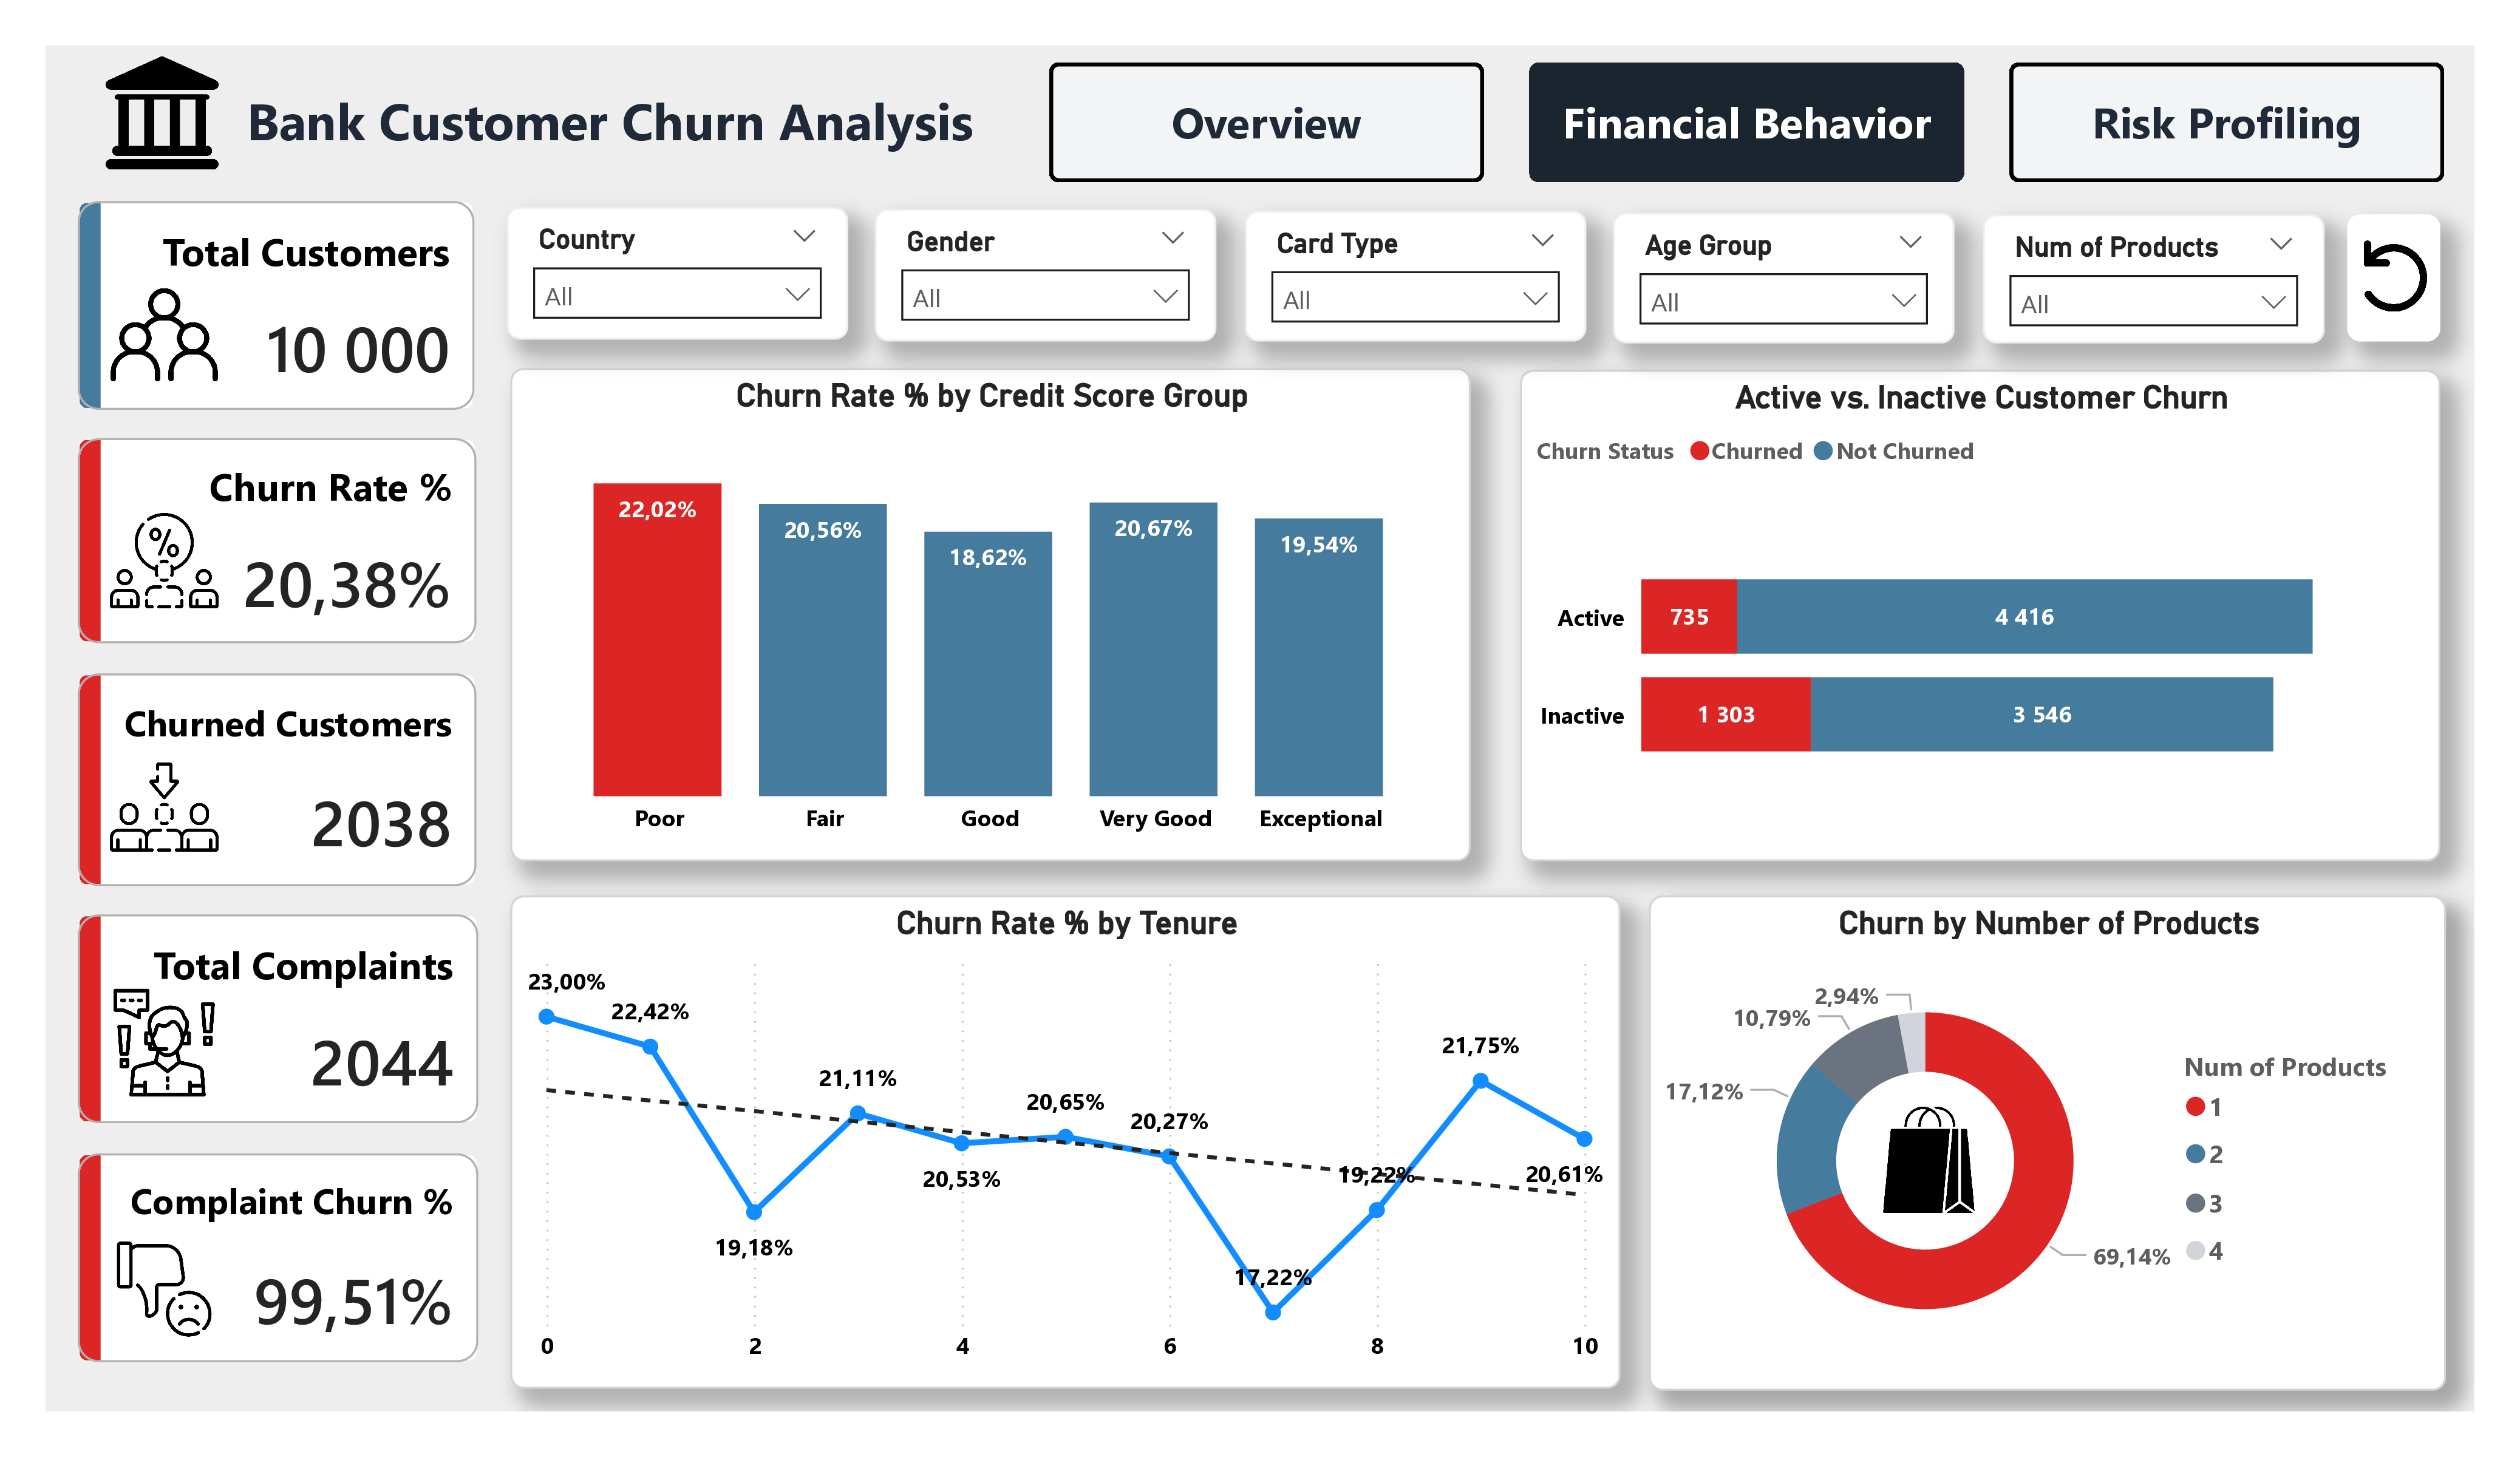

Layout of this report page (visuals, bound fields, positions):
{"tool":"powerbi","page":{"name":"Financial Behavior","canvas":[1280,720],"ordinal":1},"visuals":[{"type":"clusteredColumnChart","title":"Churn Rate by Credit Score Group","fields":{"Y":["Measures (2).Churn Rate %"],"Category":["dim_customer.credit_score_group"]},"box":[263.7,169.8,487.3,260.5],"z":0},{"type":"slicer","fields":{"Values":["dim_geography.country"]},"box":[263.7,85.4,229.9,69.6],"z":1000},{"type":"slicer","fields":{"Values":["dim_customer.gender"]},"box":[520.6,85,230,70.1],"z":2000},{"type":"slicer","fields":{"Values":["dim_cardtype.card_type"]},"box":[777.6,85,230,70.1],"z":3000},{"type":"slicer","fields":{"Values":["dim_customer.age_group"]},"box":[1034.7,85.4,229.9,69.6],"z":4000},{"type":"barChart","title":"Active vs. Inactive Customer Churn","fields":{"Y":["Measures (2).Total Customers"],"Category":["dim_customer.Member_Status"],"Series":["fact_churn.Churn_Status"]},"box":[777.3,170.9,485.2,259.5],"z":5000},{"type":"lineChart","title":"Average Balance by Tenure","fields":{"Y":["Measures (2).Avg Balance"],"Category":["dim_customer.tenure"]},"box":[263.7,448.2,487.3,259.5],"z":6000},{"type":"donutChart","title":"Churn by Number of Products","fields":{"Y":["Measures (2).Churned Customers"],"Category":["dim_customer.numofproducts"]},"box":[777.3,448.2,487.3,260.5],"z":7000},{"type":"pageNavigator","box":[522.9,9.6,735,62],"z":8000},{"type":"cardVisual","fields":{"Data":["Measures (2).Total Customers"]},"box":[4.4,64.8,242.9,142.6],"z":9000},{"type":"cardVisual","fields":{"Data":["Measures (2).Churn Rate %"]},"box":[5.6,207.4,242.9,142.6],"z":10000},{"type":"cardVisual","fields":{"Data":["Measures (2).Complaint Churn Rate %"]},"box":[4.4,350,244.1,145],"z":11000},{"type":"cardVisual","fields":{"Data":["Avg(fact_churn.satisfaction_score)"]},"box":[3.2,495,244.1,145],"z":12000},{"type":"image","box":[50.7,648.9,60.4,54.4],"z":13000},{"type":"image","box":[143.8,650.1,60.4,54.4],"z":14000},{"type":"textbox","box":[101.5,15.7,400,55.6],"z":15000},{"type":"image","box":[20.5,6,81,59.2],"z":16000},{"type":"image","box":[926.8,558.2,71.3,56.8],"z":17000}]}

Visuals, with their boxes on the page's 1280x720 design canvas (x1, y1, x2, y2). These are canvas units, not pixel positions in the 2520x1457 screenshot, which may show the page scaled, cropped or inside an application window:
"Churn Rate by Credit Score Group" clusteredColumnChart: <region>264, 170, 751, 430</region>
slicer - dim_geography.country: <region>264, 85, 494, 155</region>
slicer - dim_customer.gender: <region>521, 85, 751, 155</region>
slicer - dim_cardtype.card_type: <region>778, 85, 1008, 155</region>
slicer - dim_customer.age_group: <region>1035, 85, 1265, 155</region>
"Active vs. Inactive Customer Churn" barChart: <region>777, 171, 1262, 430</region>
"Average Balance by Tenure" lineChart: <region>264, 448, 751, 708</region>
"Churn by Number of Products" donutChart: <region>777, 448, 1265, 709</region>
pageNavigator: <region>523, 10, 1258, 72</region>
cardVisual - Measures (2).Total Customers: <region>4, 65, 247, 207</region>
cardVisual - Measures (2).Churn Rate %: <region>6, 207, 248, 350</region>
cardVisual - Measures (2).Complaint Churn Rate %: <region>4, 350, 248, 495</region>
cardVisual - Avg(fact_churn.satisfaction_score): <region>3, 495, 247, 640</region>
image: <region>51, 649, 111, 703</region>
image: <region>144, 650, 204, 704</region>
textbox: <region>102, 16, 502, 71</region>
image: <region>20, 6, 102, 65</region>
image: <region>927, 558, 998, 615</region>
